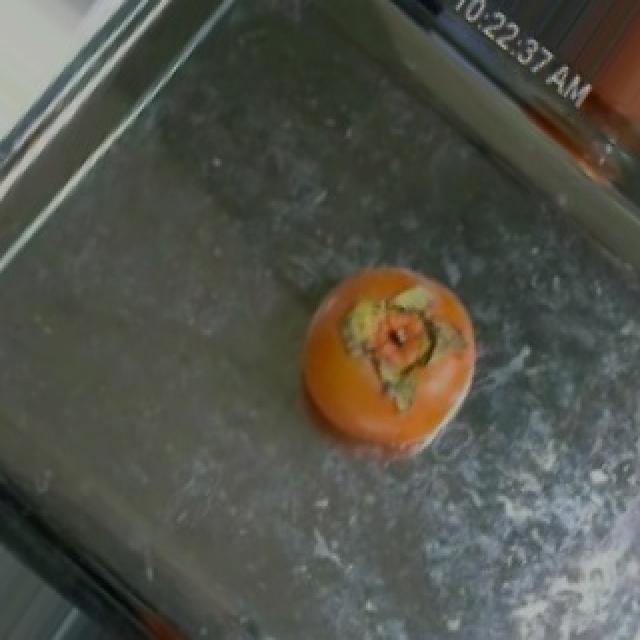Fruit: (274, 243, 506, 489), (556, 0, 640, 189)
